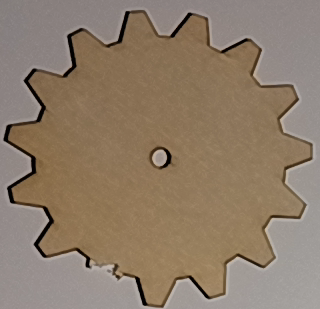Missing: (81, 253, 124, 291)
